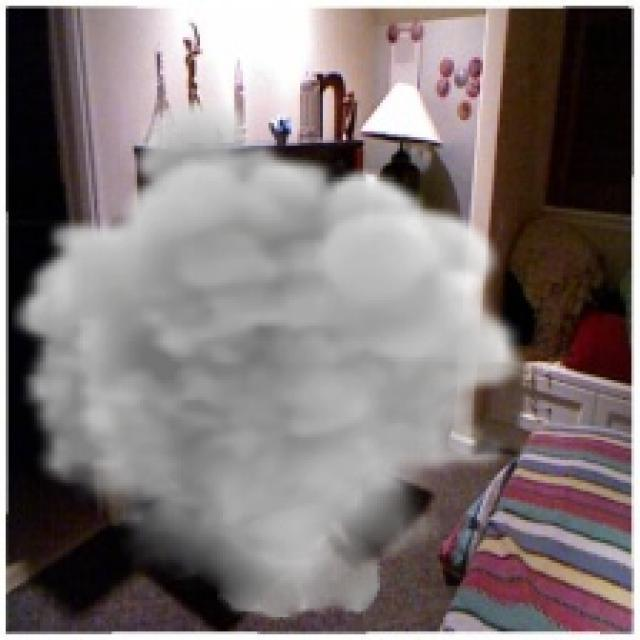Smoke: (11, 91, 528, 623)
